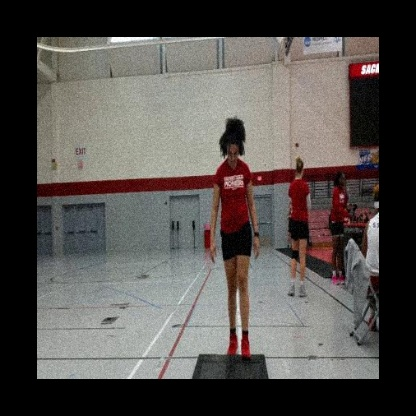lateral_flexion_right: (208, 115, 259, 365)
stance_width_narrow: (208, 156, 261, 365)
